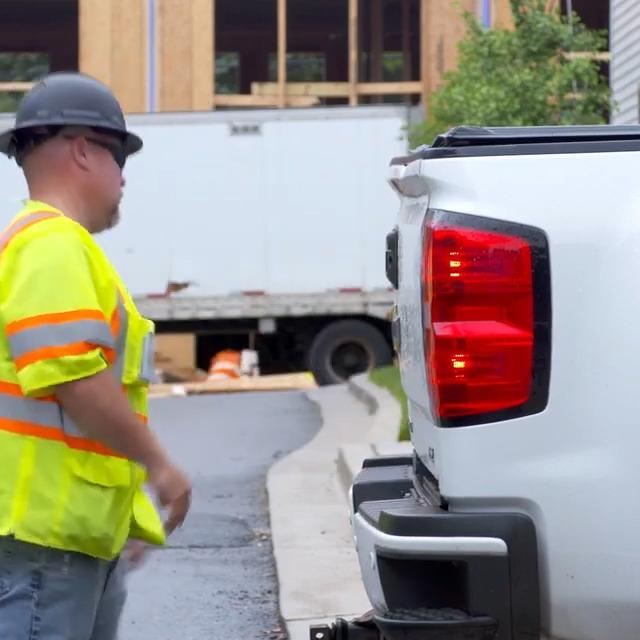Hardhat: (0, 74, 142, 157)
NO-Mask: (76, 161, 124, 233)
Person: (0, 72, 191, 640)
Safety Cone: (208, 351, 240, 380)
Safety Vest: (0, 201, 169, 558)
trailer: (0, 100, 413, 388)
vehicle: (234, 115, 640, 640)
